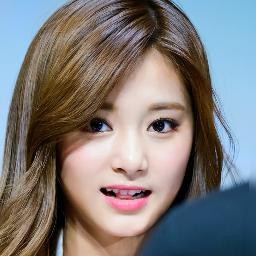face: (64, 63, 188, 235)
